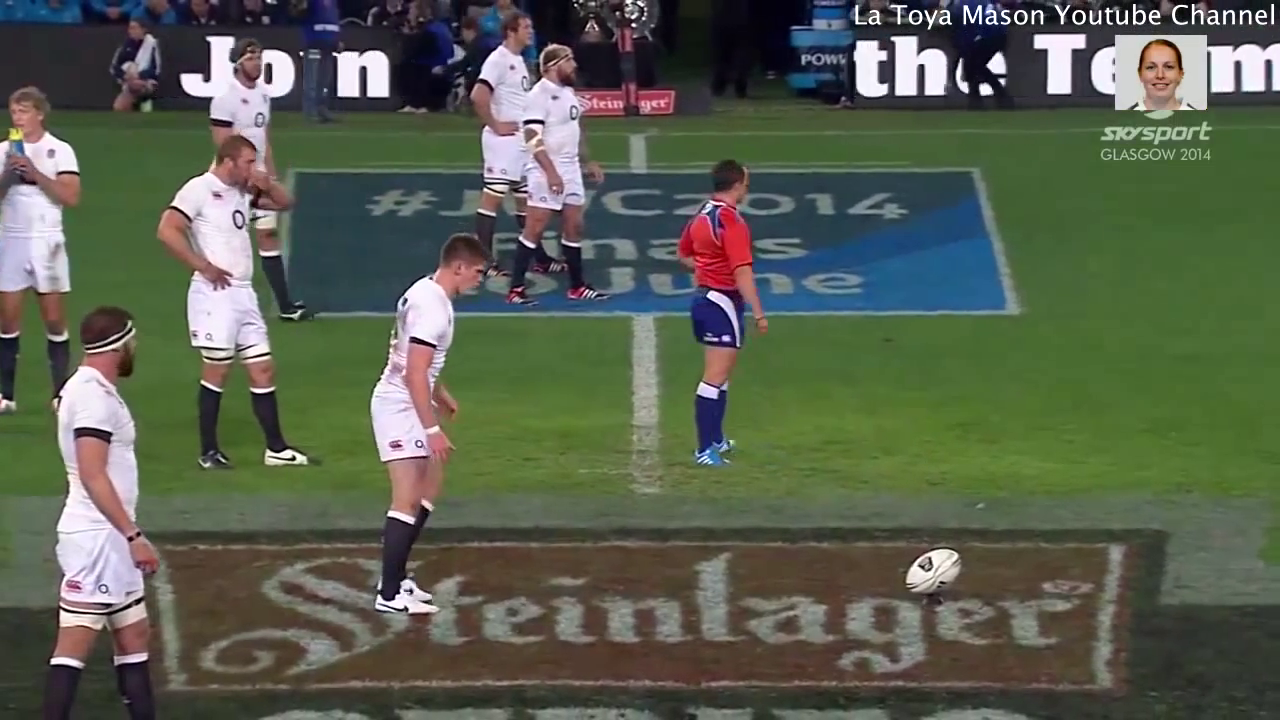ball: (898, 537, 965, 599)
player: (151, 136, 329, 478), (345, 234, 495, 624), (40, 306, 162, 720), (670, 153, 779, 467), (503, 36, 612, 305), (1, 77, 86, 417), (466, 8, 541, 252), (196, 42, 283, 179)
